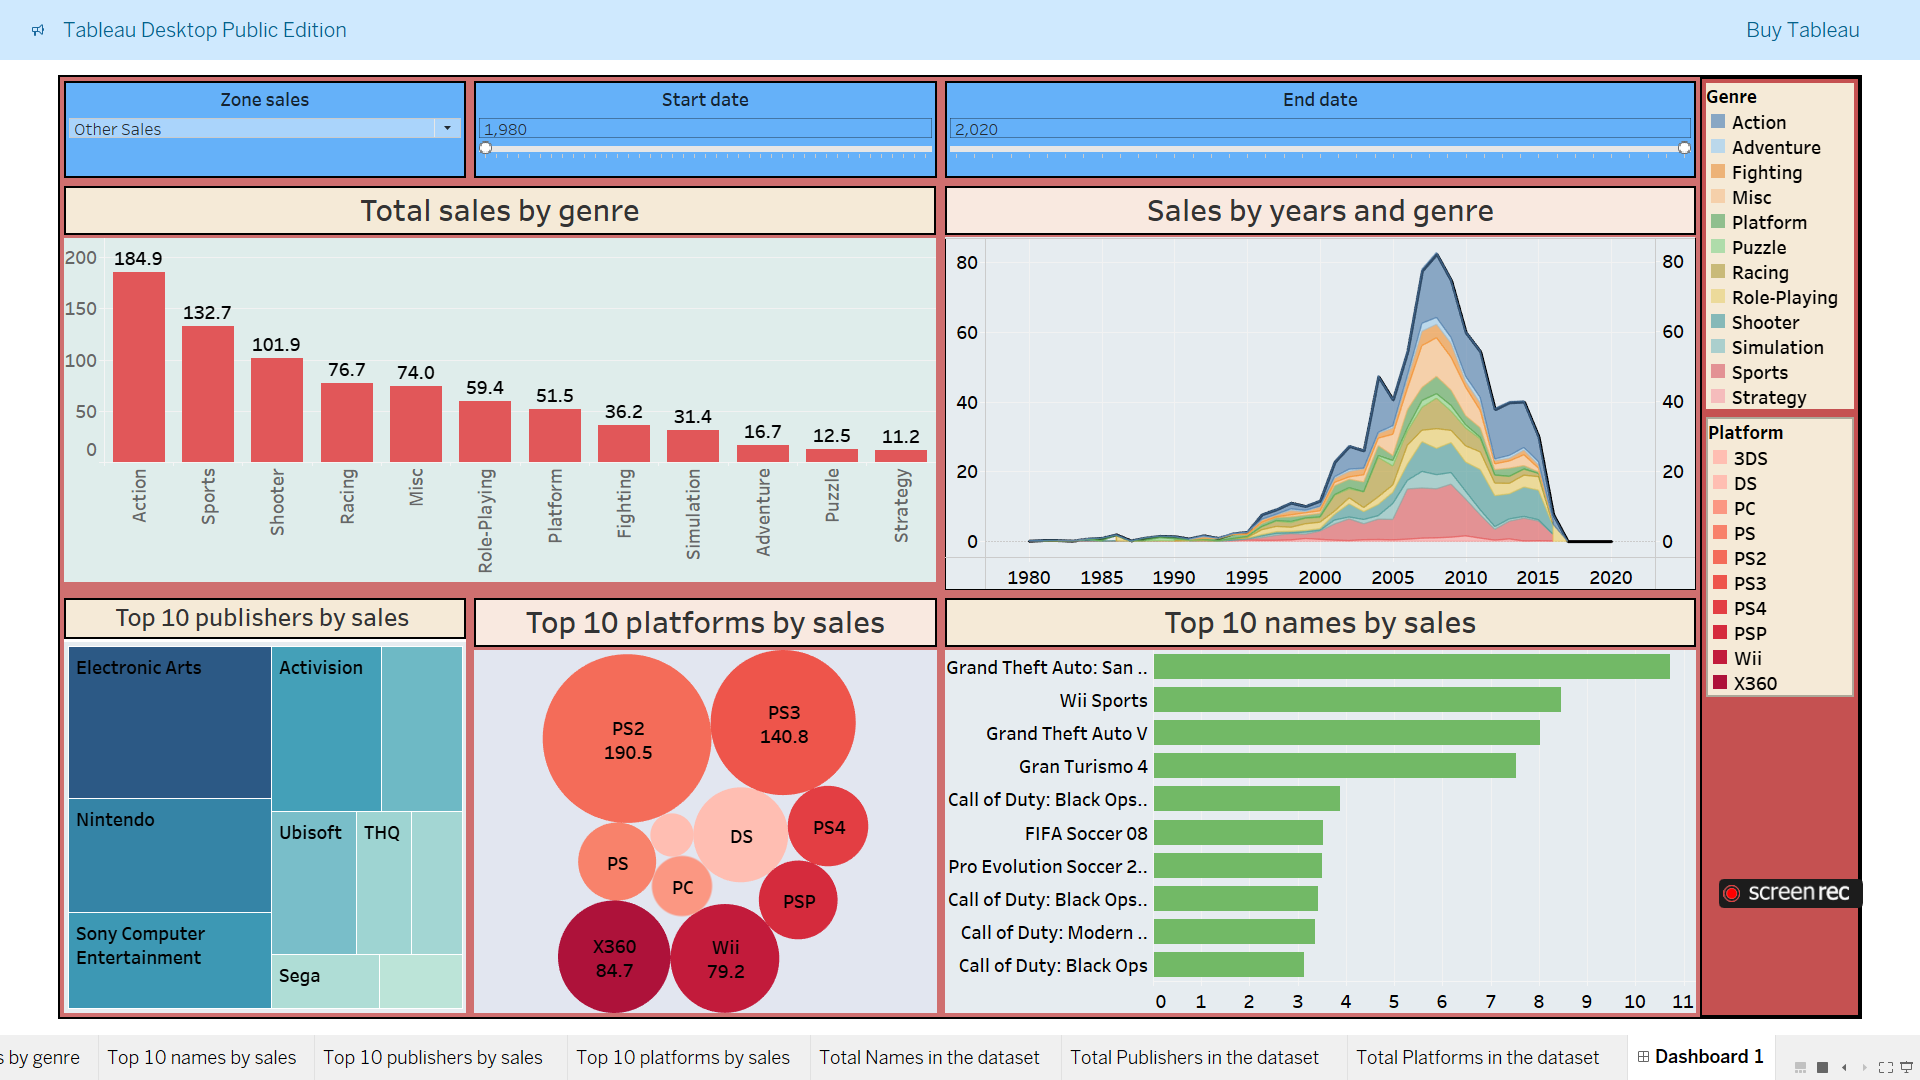

The page's visual inventory and layout, read from the dashboard file:
{"tool":"tableau","page":{"name":"Dashboard 1","canvas":[1000,1000],"units":"permille","ordinal":0},"visuals":[{"type":"parameter","param":"[Parameters].[Parameter 1]","box":[5.5,11.1,225.3,109.5]},{"type":"parameter","param":"[Parameters].[Parameter 2]","box":[230.8,11.1,258.5,109.5]},{"type":"parameter","param":"[Parameters].[Parameter 3]","box":[489.3,11.1,417.3,109.5]},{"type":"legend","title":"Sales by years and genre","param":"[federated.0dqypv20nxt76i18qrfs41s8ir69].[none:Genre:nk]","box":[907.7,13.3,85.7,371.1]},{"type":"worksheet","title":"Total sales by genre","mark":"Automatic","rows":["Calculation_219831957449207808"],"cols":["Genre"],"box":[5.5,120.6,483.8,428]},{"type":"worksheet","title":"Sales by years and genre","mark":"Automatic","rows":["Calculation_219831957449207808","Calculation_219831957449207808"],"cols":["Year"],"box":[489.3,120.6,417.3,428.1]},{"type":"legend","title":"Top 10 platforms by sales","param":"[federated.0dqypv20nxt76i18qrfs41s8ir69].[none:Platform:nk]","box":[907.7,384.4,85.7,320]},{"type":"worksheet","title":"Top 10 publishers by sales ","mark":"Automatic","box":[5.5,548.6,225.3,440.3]},{"type":"worksheet","title":"Top 10 platforms by sales","mark":"Circle","box":[230.8,548.6,258.5,440.3]},{"type":"worksheet","title":"Top 10 names by sales","mark":"Automatic","rows":["Name"],"cols":["Calculation_219831957449207808"],"box":[489.3,548.6,417.3,440.3]}]}

Visuals, with their boxes on the dashboard's canvas, which has no fixed pixel size, in thousandths of its width and height (x1, y1, x2, y2). These are canvas units, not pixel positions in the 1920x1080 screenshot, which may show the page scaled, cropped or inside an application window:
parameter: (left=6, top=11, right=231, bottom=121)
parameter: (left=231, top=11, right=489, bottom=121)
parameter: (left=489, top=11, right=907, bottom=121)
"Sales by years and genre" legend: (left=908, top=13, right=993, bottom=384)
"Total sales by genre" worksheet: (left=6, top=121, right=489, bottom=549)
"Sales by years and genre" worksheet: (left=489, top=121, right=907, bottom=549)
"Top 10 platforms by sales" legend: (left=908, top=384, right=993, bottom=704)
"Top 10 publishers by sales " worksheet: (left=6, top=549, right=231, bottom=989)
"Top 10 platforms by sales" worksheet (Circle marks): (left=231, top=549, right=489, bottom=989)
"Top 10 names by sales" worksheet: (left=489, top=549, right=907, bottom=989)
